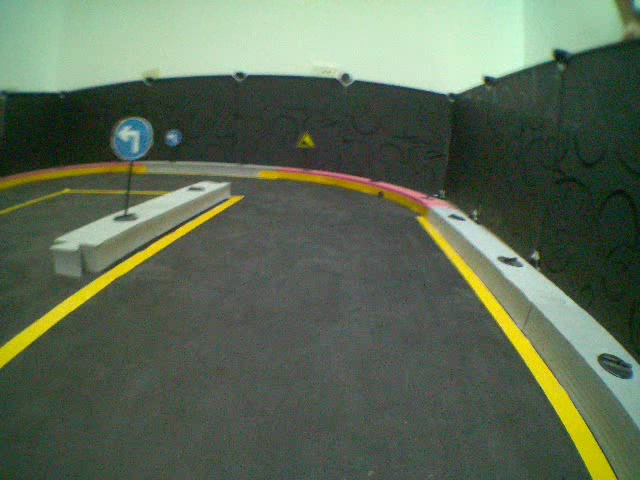fast: (296, 129, 314, 149)
turn: (110, 114, 152, 160), (164, 128, 182, 147)
